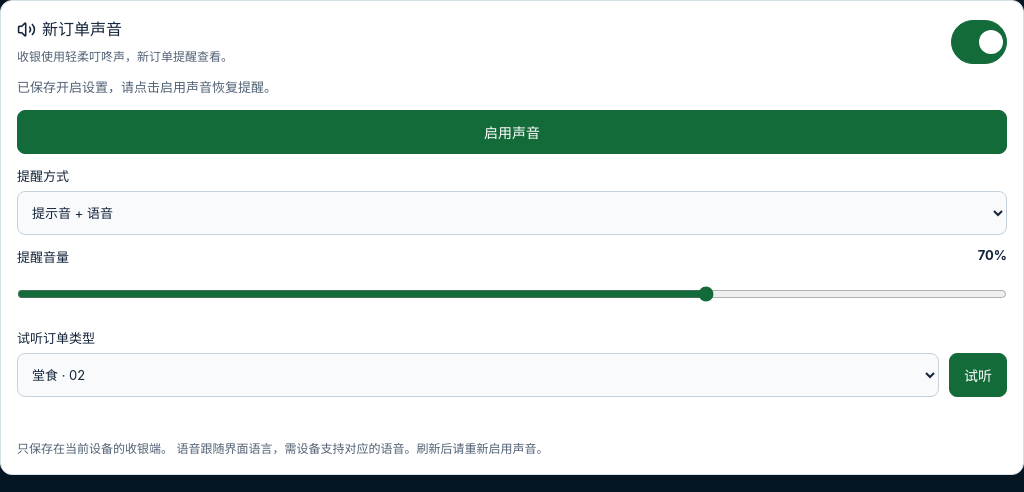
Test: device sound settings › shows a reactivation action for a saved preference, and toggles off directly
Step 1. Click the switch named "新订单声音" → point(979, 42), box [951,20,1007,64]
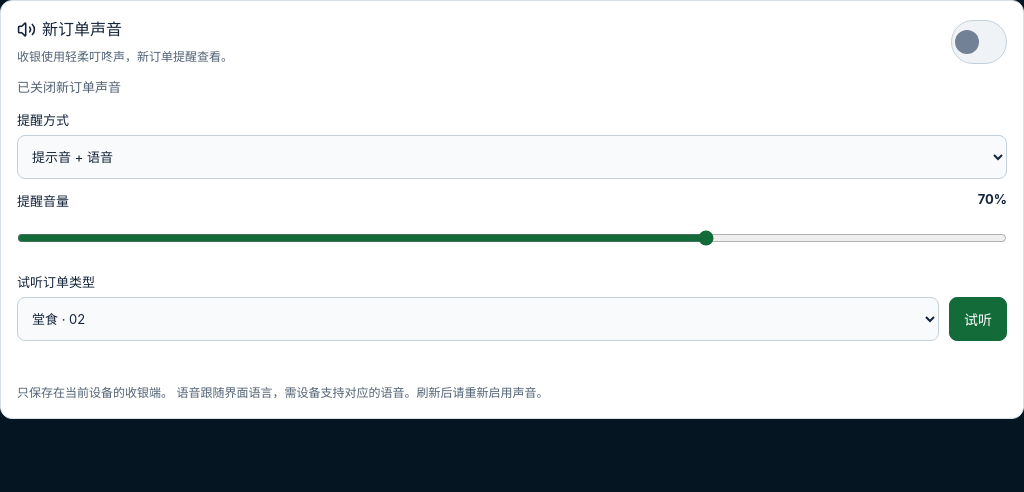
Expected: the text "已关闭" is shown, [17,79,121,95]
